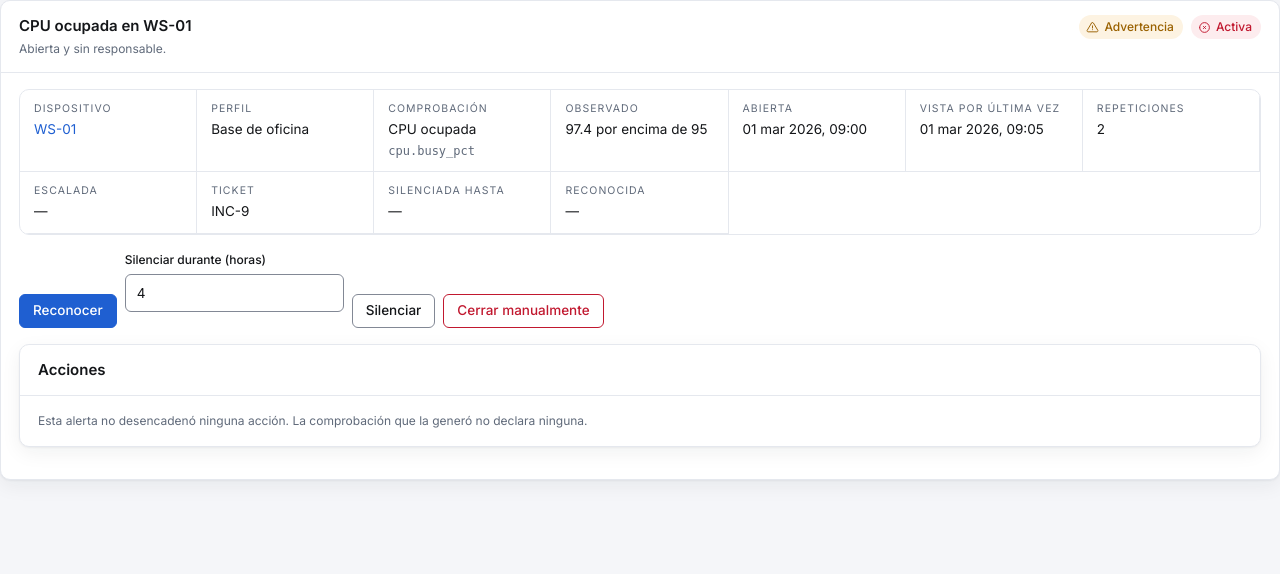
Test case: the alert detail, in Spanish › words a refused acknowledgement
Click the button "Reconocer".
click(68, 311)  # box [19, 294, 117, 328]
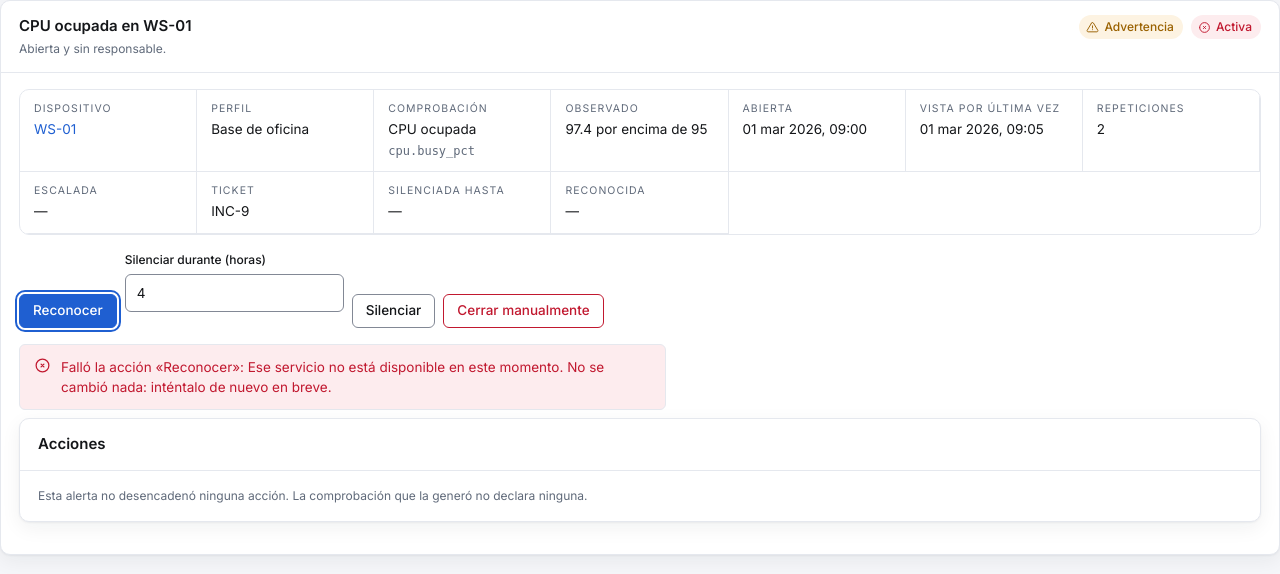
Expected: the message shows "Falló la acción «Reconocer»:", [61, 359, 604, 395]
